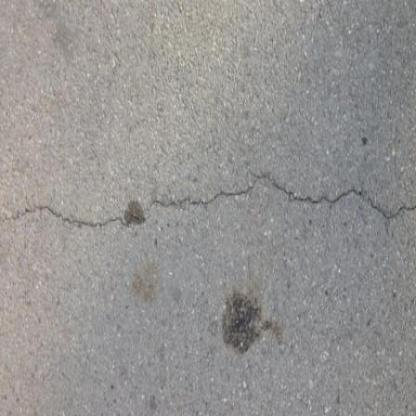Cracks: (1, 162, 416, 281)
